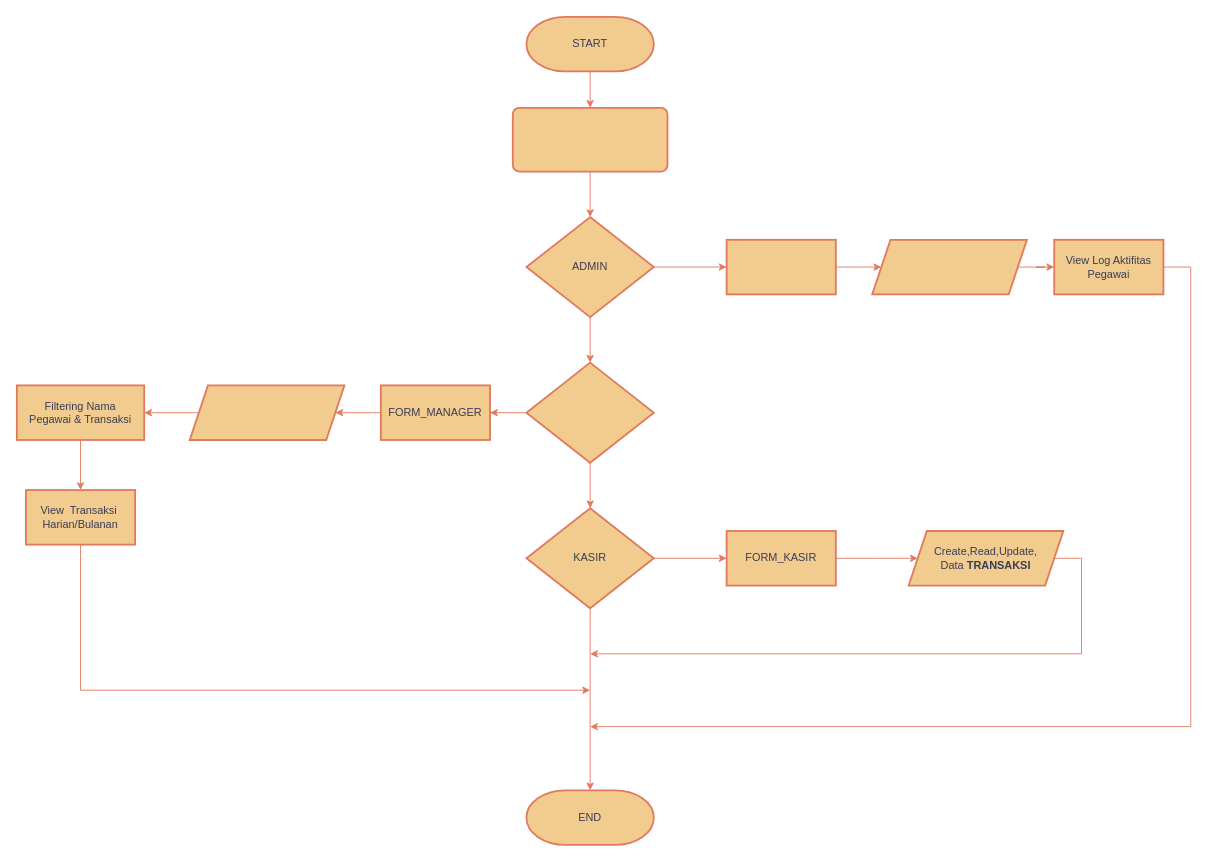
Image size: 1214x861. Some labels were removed from this diagram. Each missing label, with the box of its shape:
Create,Read,Update, Data Menu: (188, 384, 345, 440)
Create,Read,Update, Data USER: (871, 238, 1027, 295)
FORM_LOGIN: (511, 106, 668, 172)
FORM_USER: (725, 238, 836, 295)
MANAGER: (525, 361, 654, 463)
